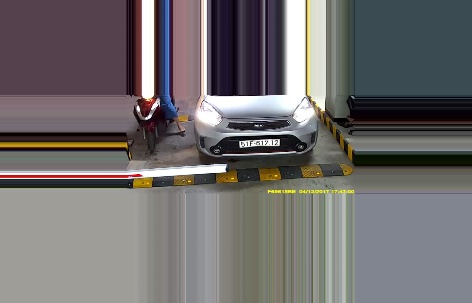plate: (236, 137, 282, 148)
